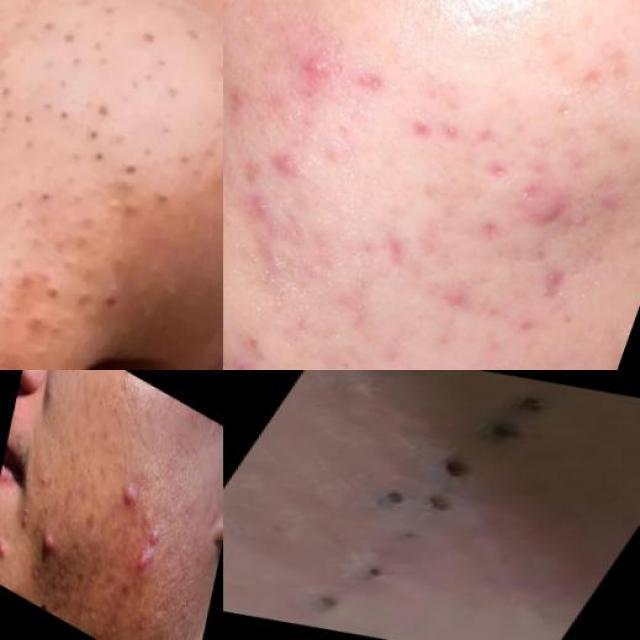Pimples: (57, 102, 213, 220), (0, 255, 150, 364), (394, 88, 526, 196), (275, 22, 367, 114), (512, 243, 604, 325), (461, 383, 569, 451), (555, 40, 640, 117), (504, 176, 584, 255), (352, 478, 469, 524), (423, 262, 488, 336), (496, 308, 566, 360), (413, 449, 498, 487), (364, 215, 414, 278), (125, 536, 165, 592), (294, 588, 350, 616), (142, 514, 174, 556), (346, 558, 396, 584), (227, 0, 265, 33), (117, 470, 143, 514), (36, 524, 58, 558), (0, 535, 10, 564)
